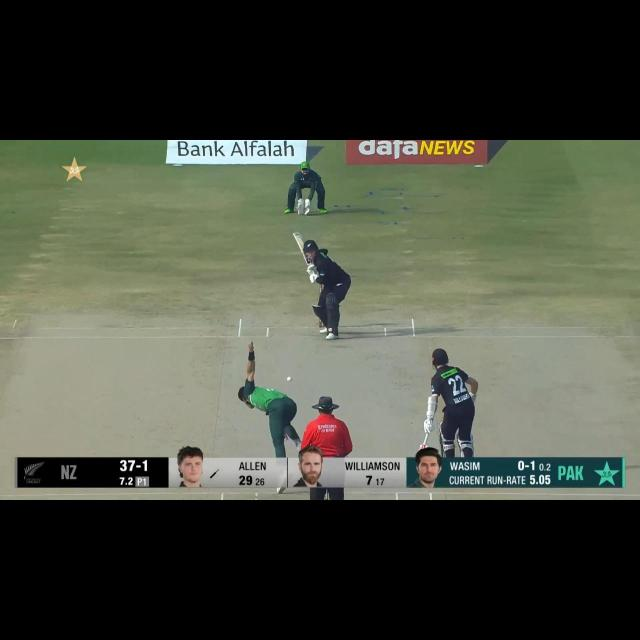bat: (292, 232, 312, 262), (418, 443, 428, 453)
toe: (293, 232, 303, 240)
